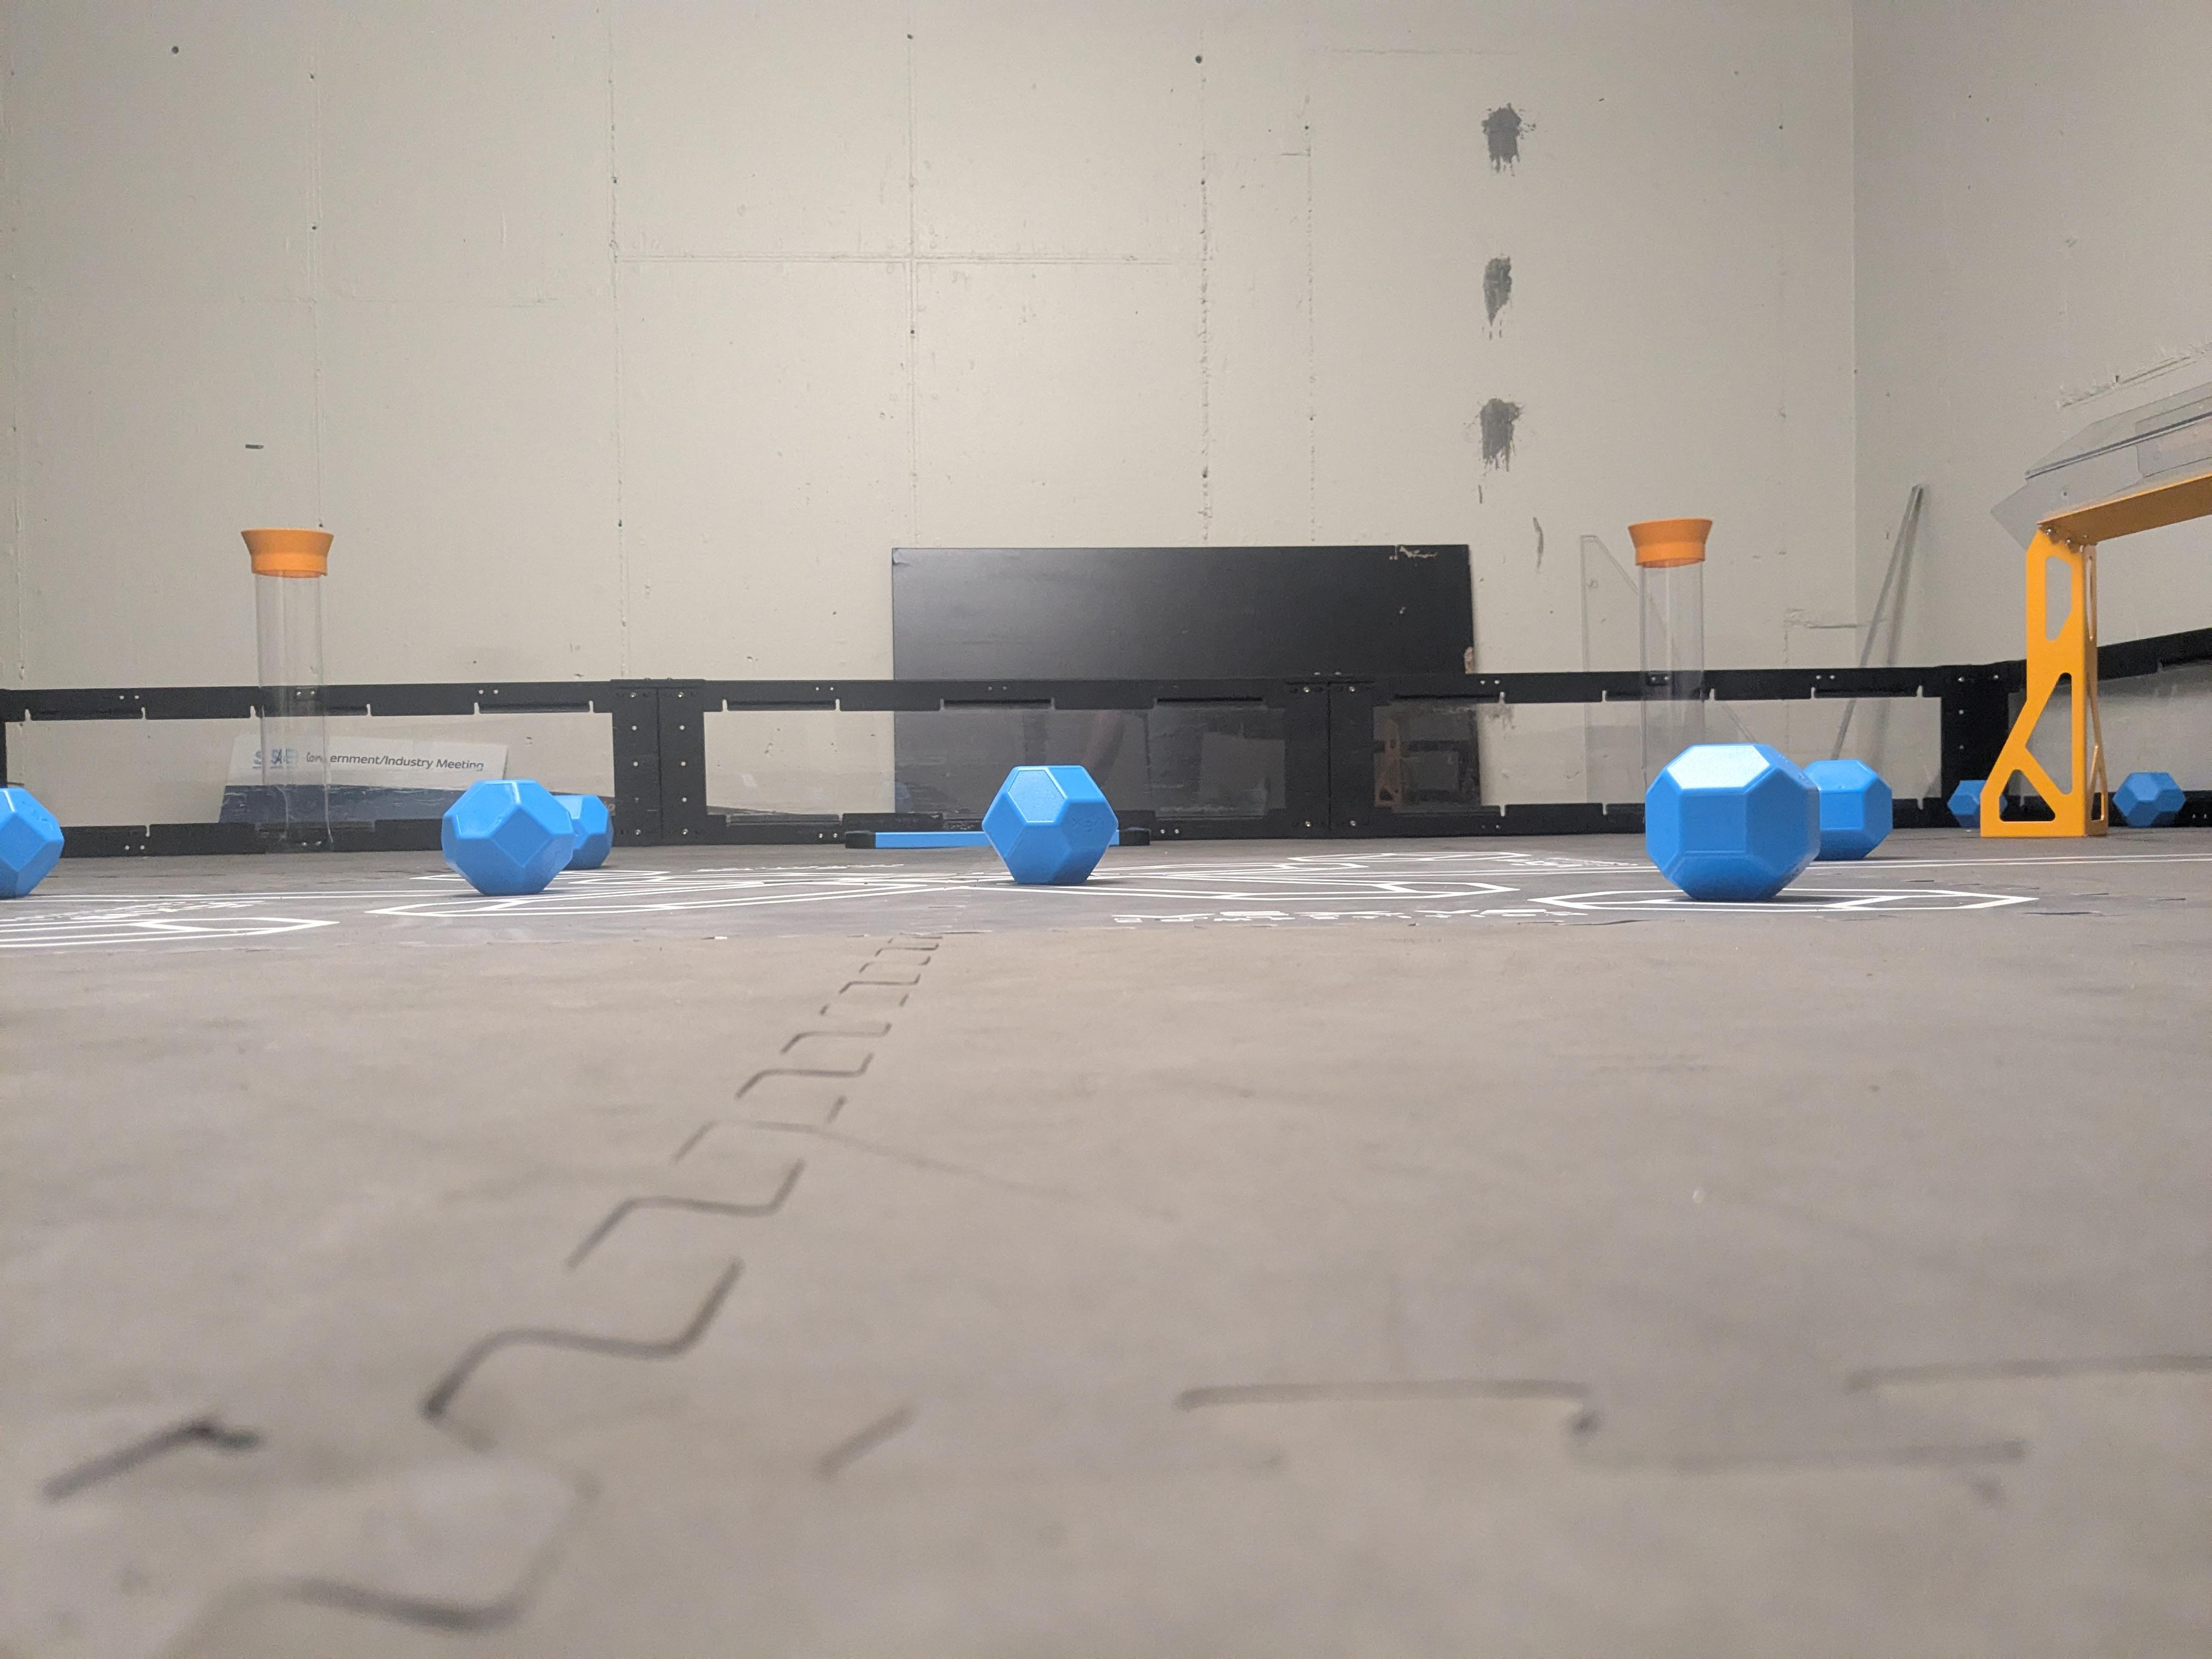Vex-Pieces-BLUE: (1644, 744, 1890, 901), (442, 777, 608, 892), (988, 767, 1115, 884), (3, 788, 64, 894), (2111, 772, 2186, 828), (1947, 779, 1986, 828)
